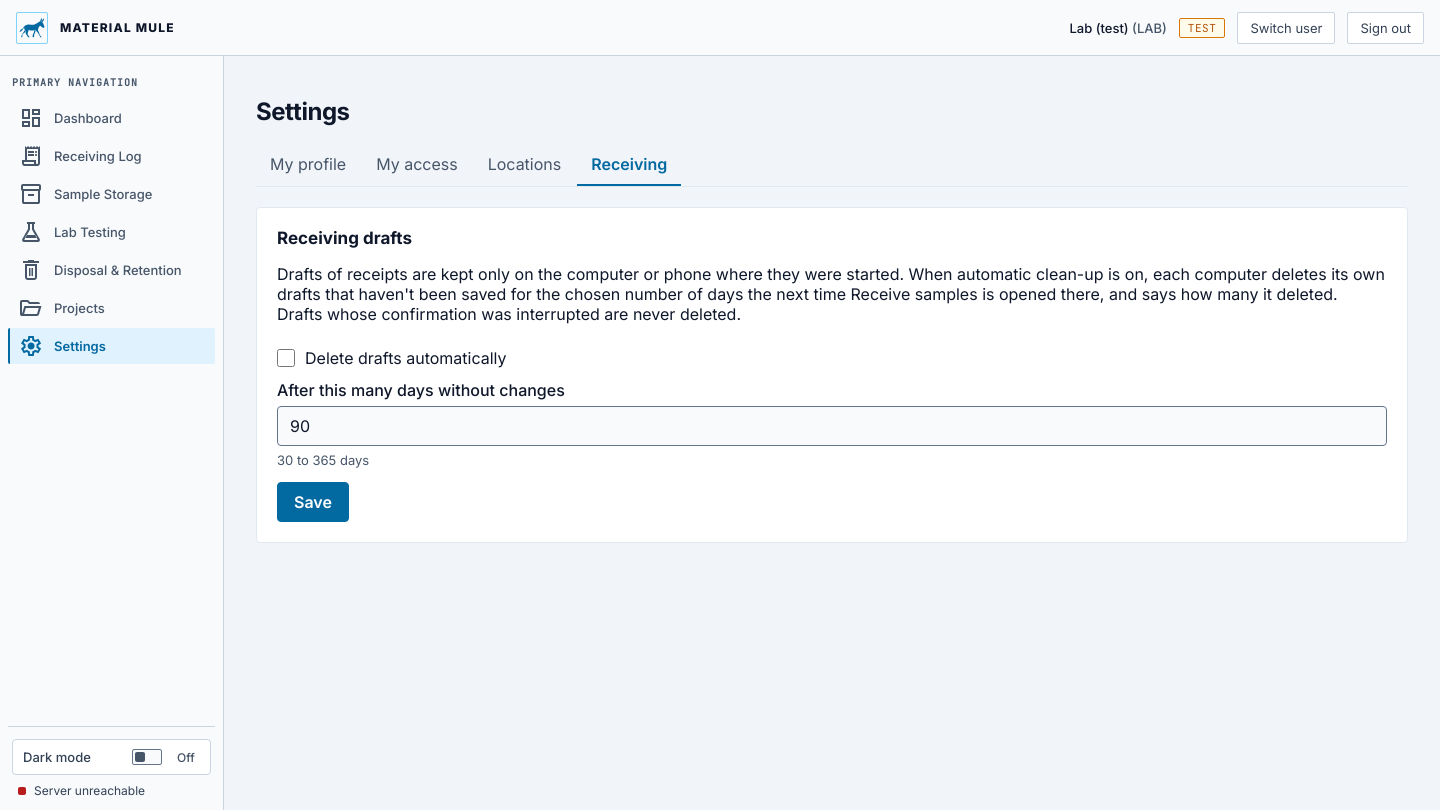
Settings → Receiving (MM-T45) › explains where drafts live and saves a change with the loaded version
The image size is (1440, 810).
Check: the number field labelled "After this many days without changes" holds "90", box [277,406,1387,446]
Click the checkbox labelled "Delete drafts automatically": coordinates (286, 358) [277,349,295,367]
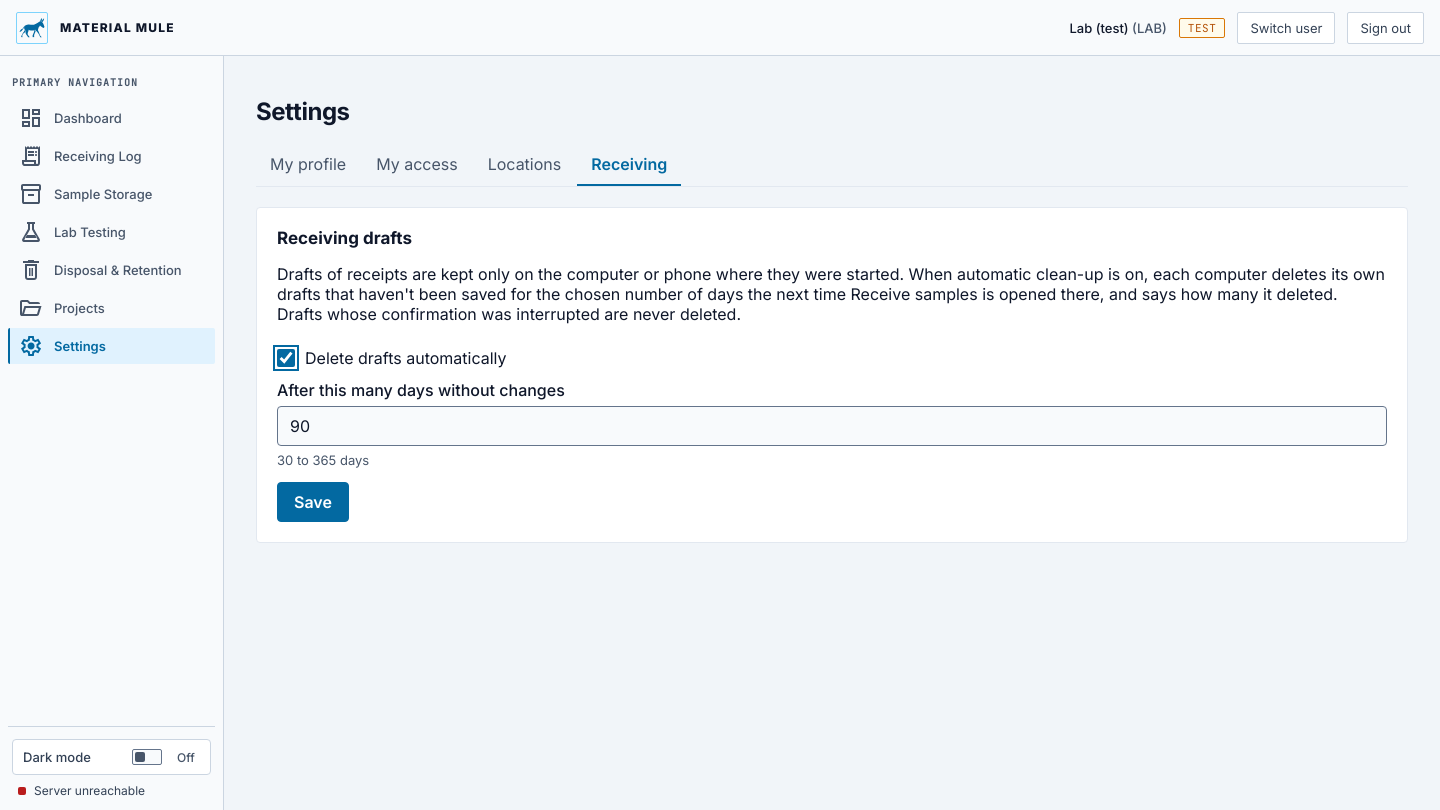
Replace the text in the number field labelled "After this many days without changes" with "60": coordinates (832, 426) [277,406,1387,446]
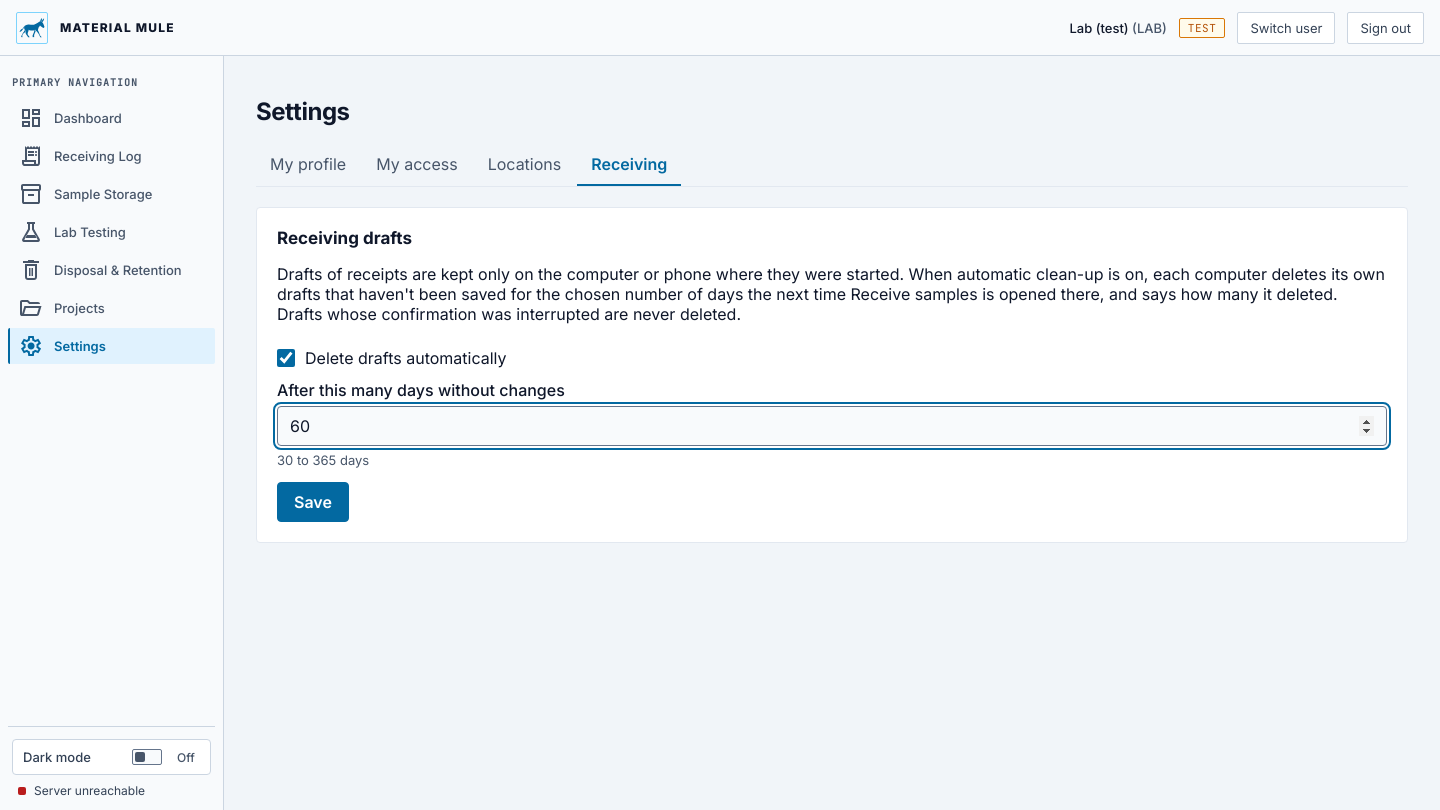
Click the button "Save": coordinates (313, 502) [277,482,349,522]
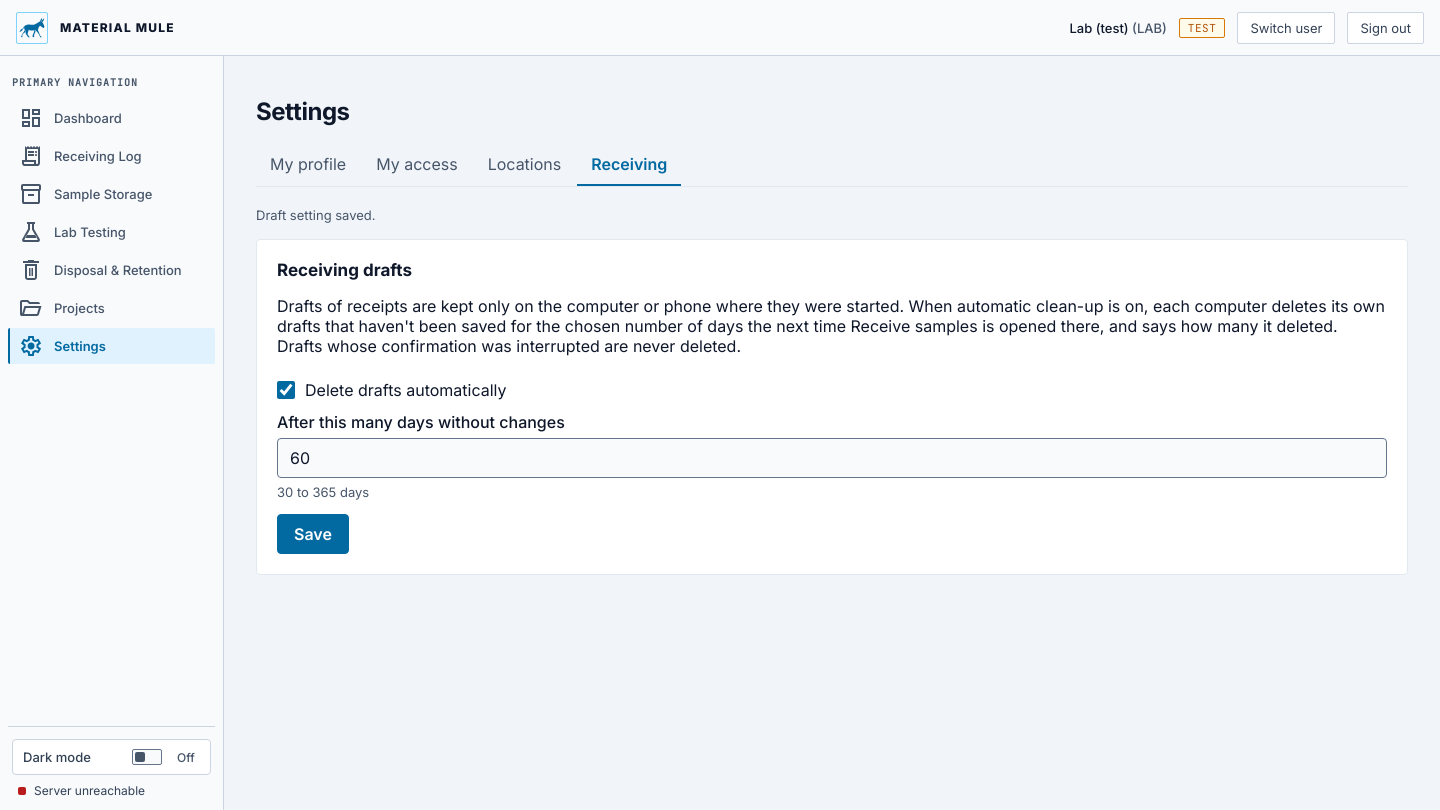
Check: the checkbox labelled "Delete drafts automatically" is checked, box [277,381,295,399]
Check: the number field labelled "After this many days without changes" holds "60", box [277,438,1387,478]
Check: the text "Draft setting saved." is shown, box [256,207,376,223]
